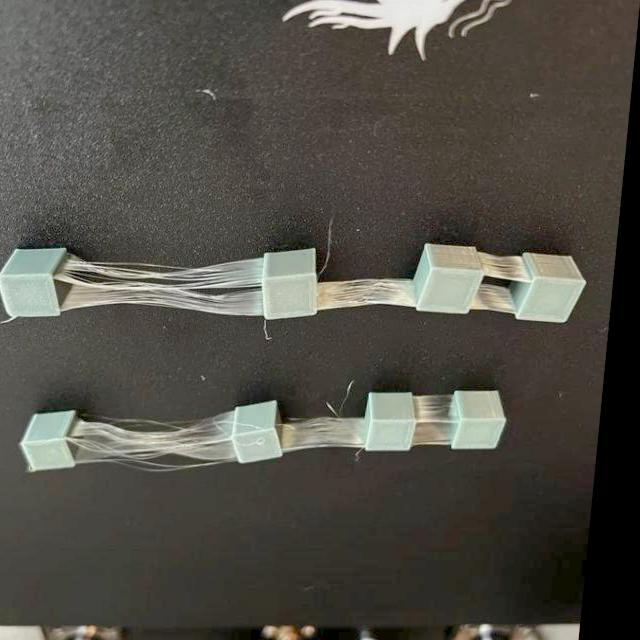stringing: (56, 254, 284, 317), (74, 406, 252, 467), (320, 278, 420, 306), (288, 423, 368, 453), (424, 395, 464, 422)
